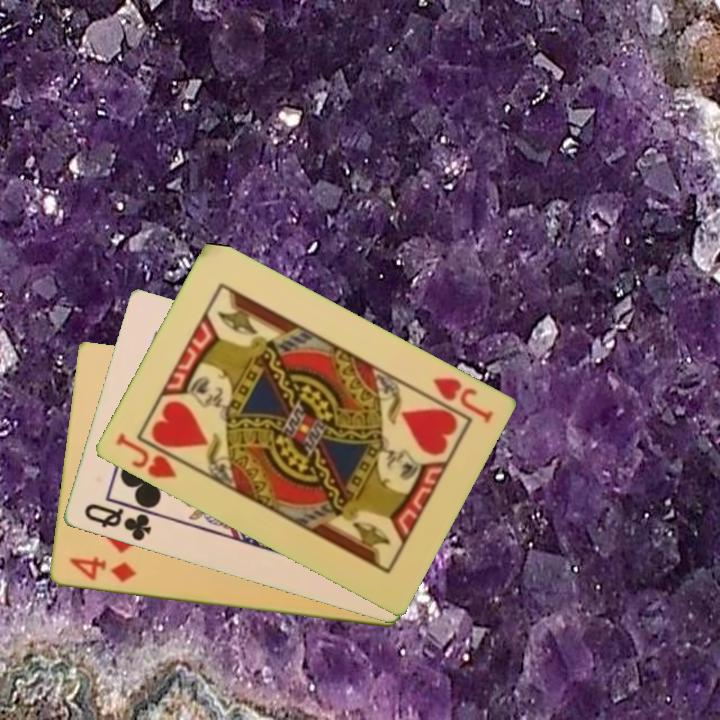4d: (65, 554, 139, 586)
Jh: (111, 430, 191, 482), (428, 374, 496, 427)
Qc: (80, 498, 160, 545)
